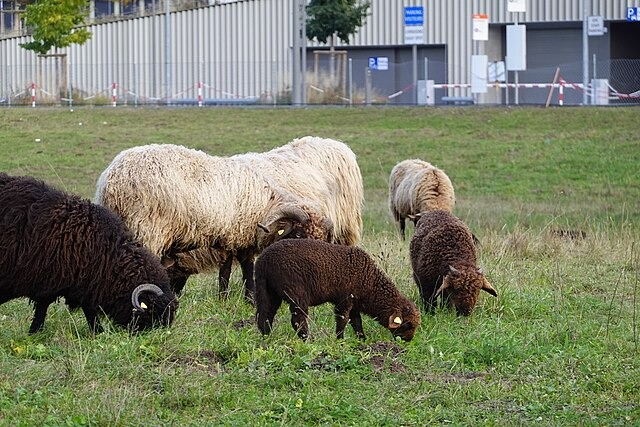grazing: (1, 169, 174, 330), (254, 236, 420, 340), (409, 209, 499, 317)
